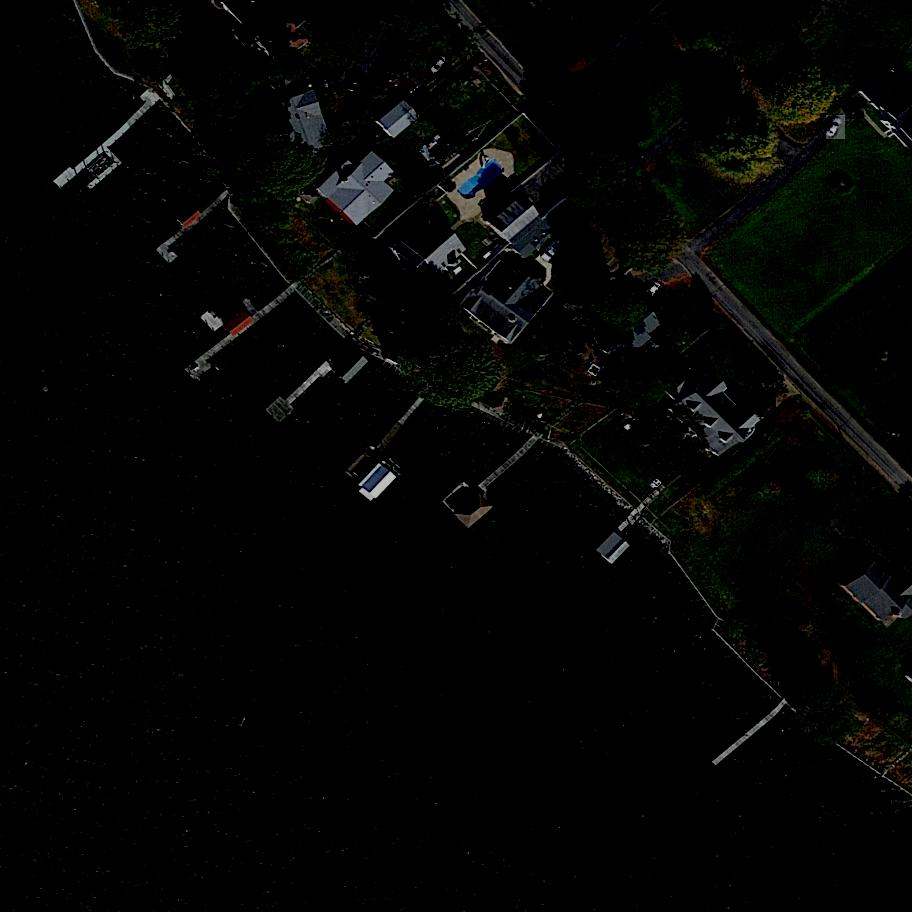small-vehicle: (426, 53, 453, 81), (541, 238, 567, 265), (346, 69, 366, 94), (826, 115, 846, 140), (644, 281, 664, 302), (846, 98, 865, 120), (757, 397, 776, 418), (747, 391, 769, 408)
